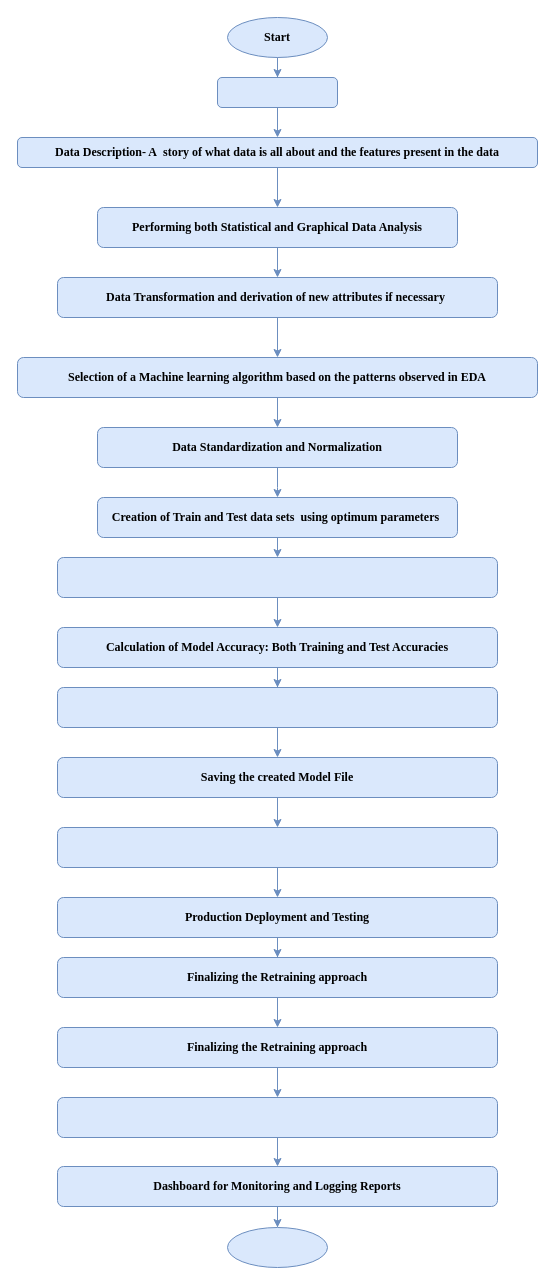
The diagram is 555 pixels wide and 1285 high, and some of its shapes have lost their labels. The centre of each missing label's shape, as x and y in pixels:
Data Selection: the point at 277,92
Deployment Strategies for the Model(Live Stream/Batch/ Mini Batch): the point at 277,847
Hyper-parameter tuning to achieve a better accuracy: the point at 277,707
Logging and Monitoring (Maintaining the Audit Tables): the point at 277,1117
Model Training using the Machine Learning Algorithm tested above: the point at 277,577
Stop: the point at 277,1247
